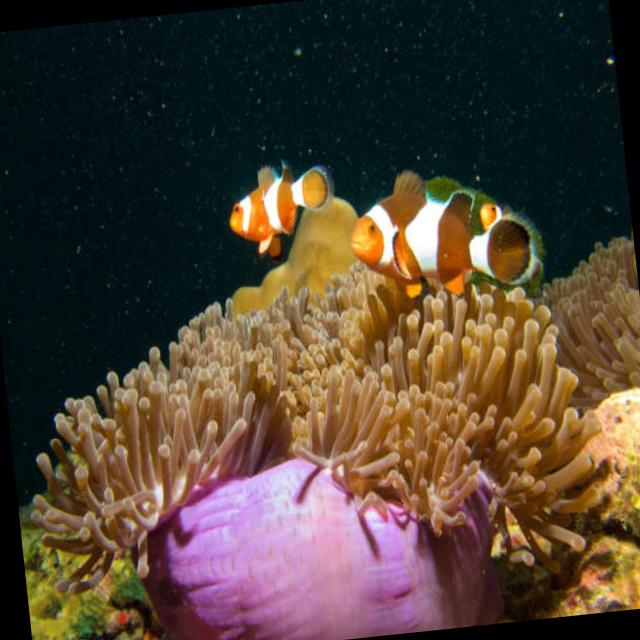ClownFish: (345, 154, 541, 318), (221, 157, 334, 260), (474, 182, 544, 245)
